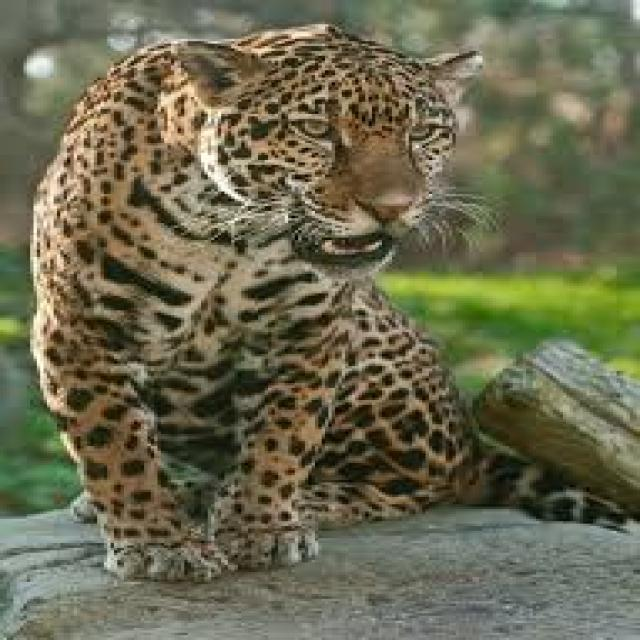Jaguar: (34, 19, 603, 577)
